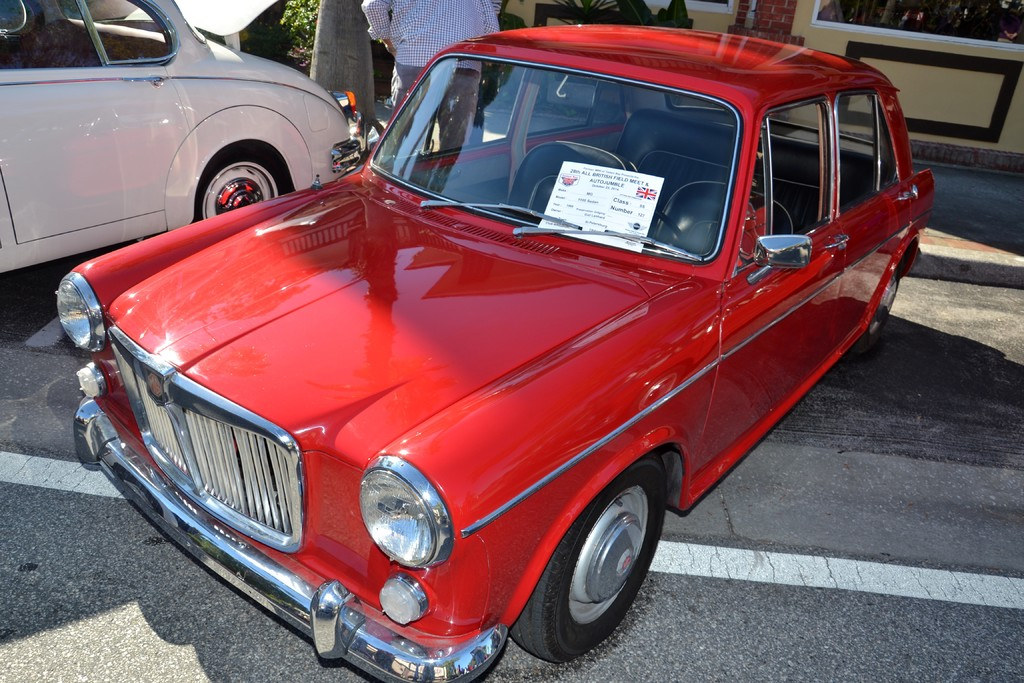Car: (55, 18, 936, 682), (0, 0, 366, 290)
